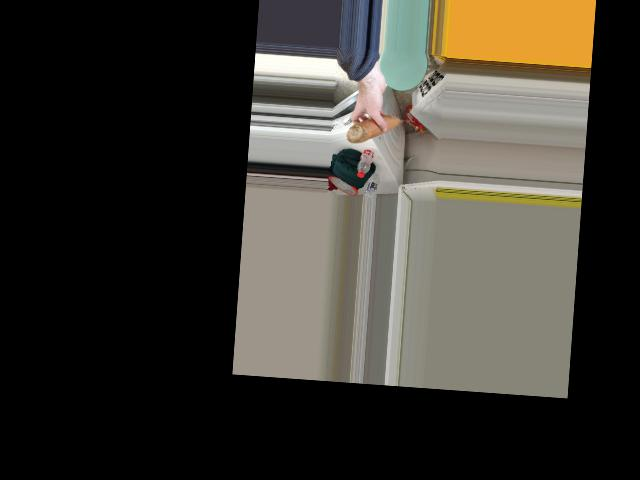sweet_potato: (349, 107, 399, 148)
